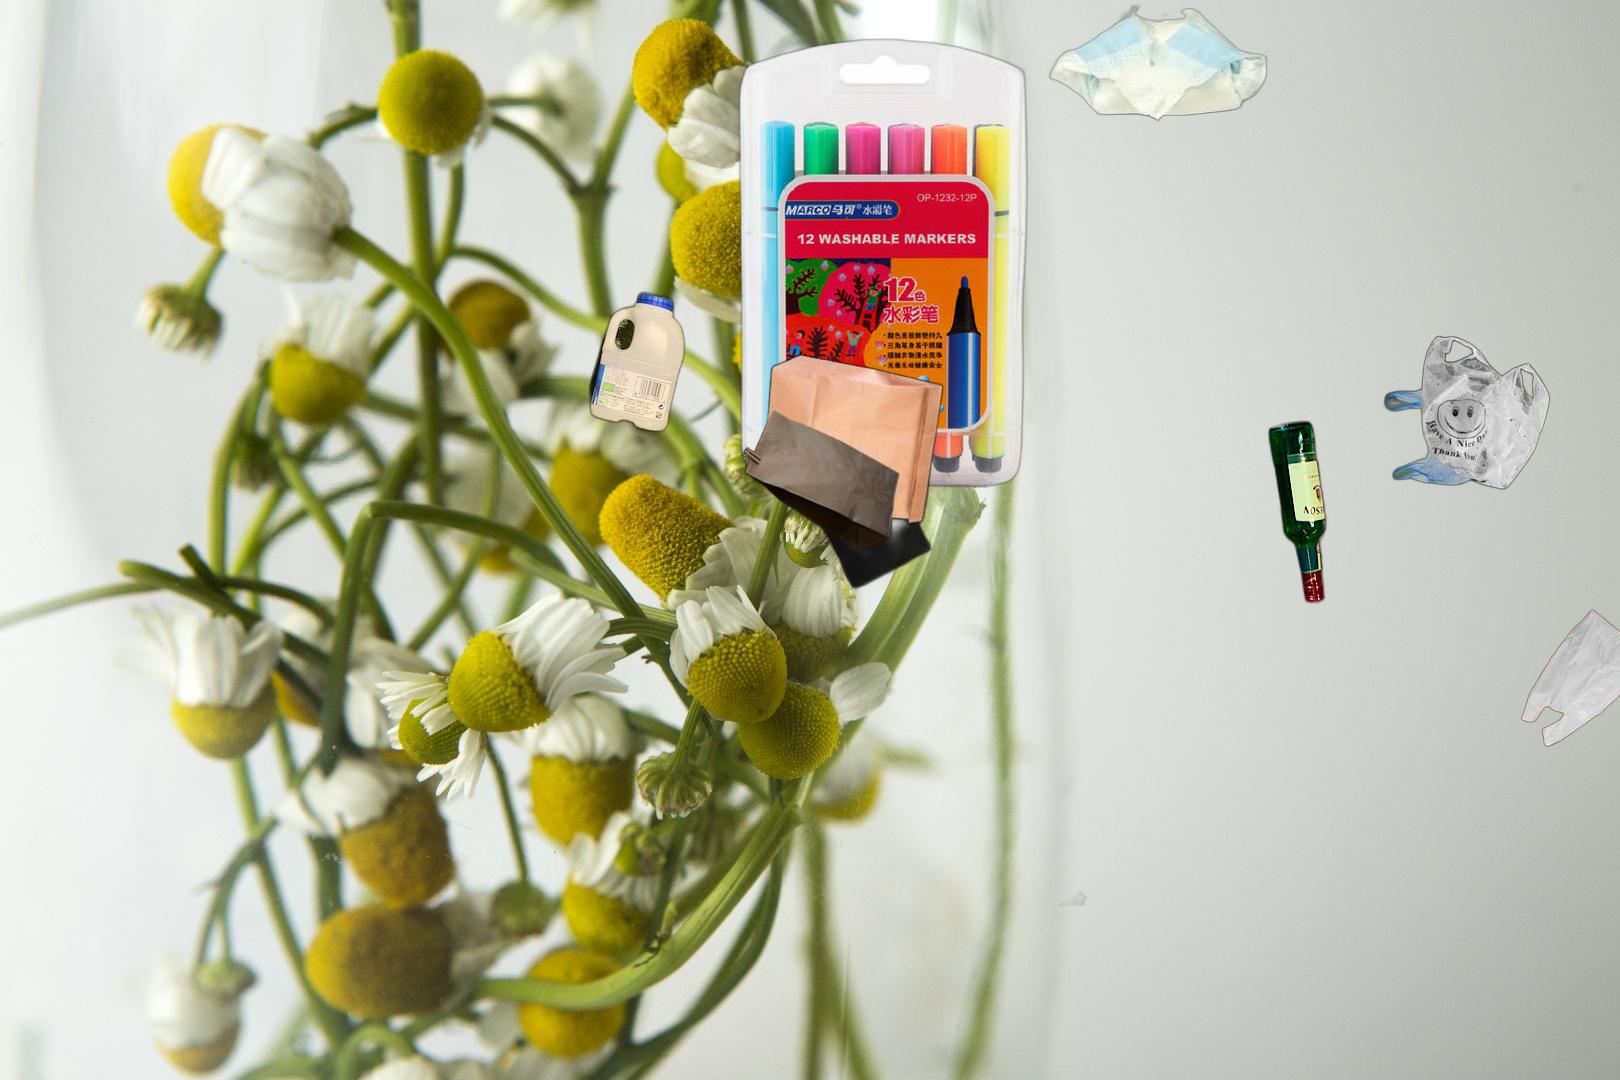glass: (1053, 415, 1330, 906)
paper-bag: (739, 352, 946, 630)
penholder: (736, 34, 1129, 513)
plastic-bag: (1383, 334, 1551, 492), (1518, 607, 1620, 749)
plastic-bottles: (585, 287, 689, 442)
trash: (1047, 2, 1270, 125)
